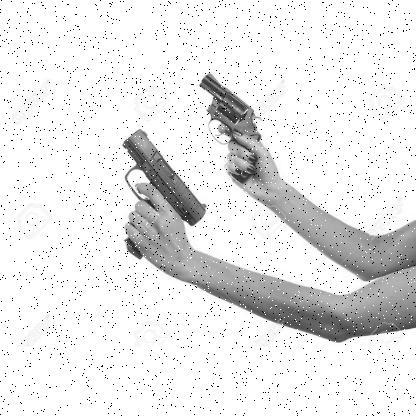gun: (114, 130, 206, 257), (197, 65, 262, 181)
